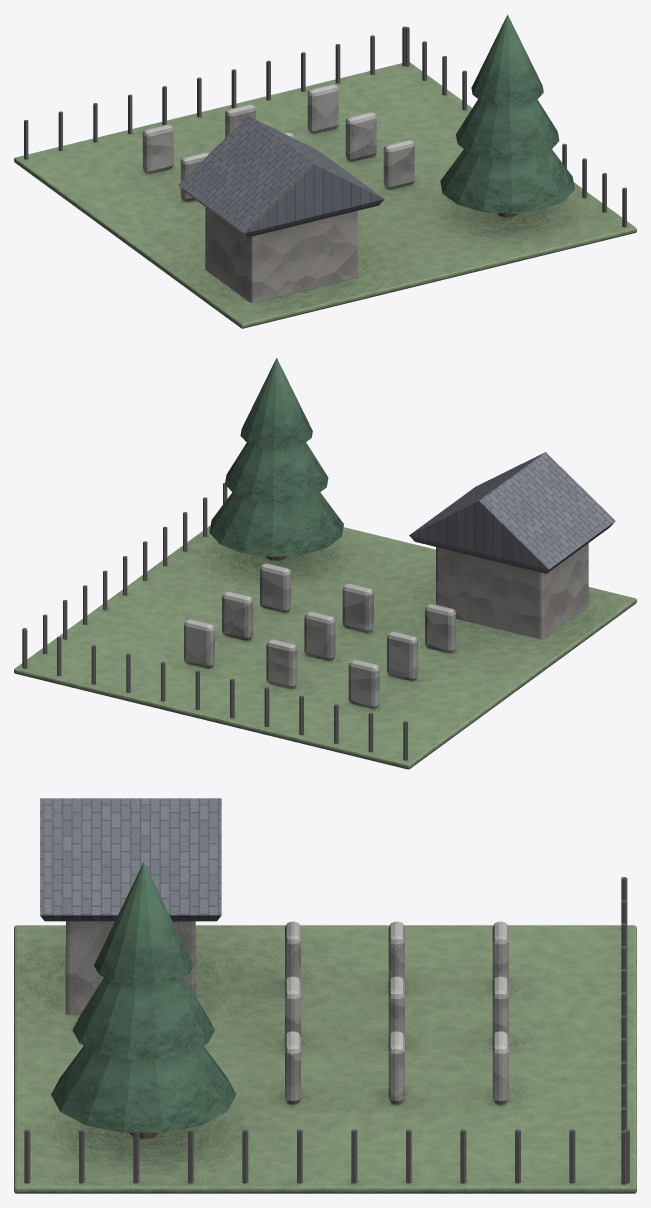
The model's file is friedhof.glb.
3 views of the same model, one above another, from view 1: azimuth 30°, elevation 25°; view 2: azimuth 150°, elevation 25°; view 3: azimuth 270°, elevation 25° (orthographic). The views are drawn at different scales.
Parts seen in each view (by area): view 1: friedhof, friedhof_details; view 2: friedhof, friedhof_details; view 3: friedhof, friedhof_details.
Part boxes in pixels (x1,y1,x2,y2): friedhof: [14, 14, 636, 328]; friedhof_details: [24, 26, 626, 227]; friedhof: [14, 358, 636, 769]; friedhof_details: [22, 483, 407, 760]; friedhof: [14, 798, 636, 1193]; friedhof_details: [24, 877, 629, 1184].
Size of the model in its own units: 0.96 by 0.473 by 0.96.
2 materials, 1 textured.
